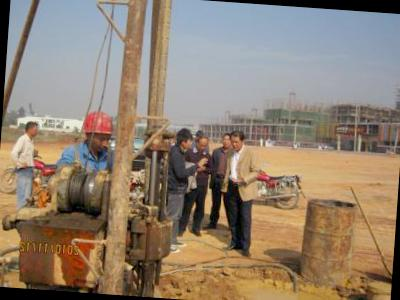no_helmet: (174, 126, 194, 152), (228, 129, 246, 151), (24, 118, 38, 140), (195, 132, 209, 152), (219, 131, 231, 150)
